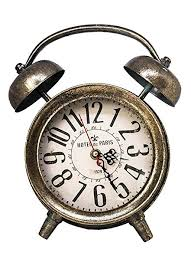alarm_clock: (8, 16, 181, 247)
